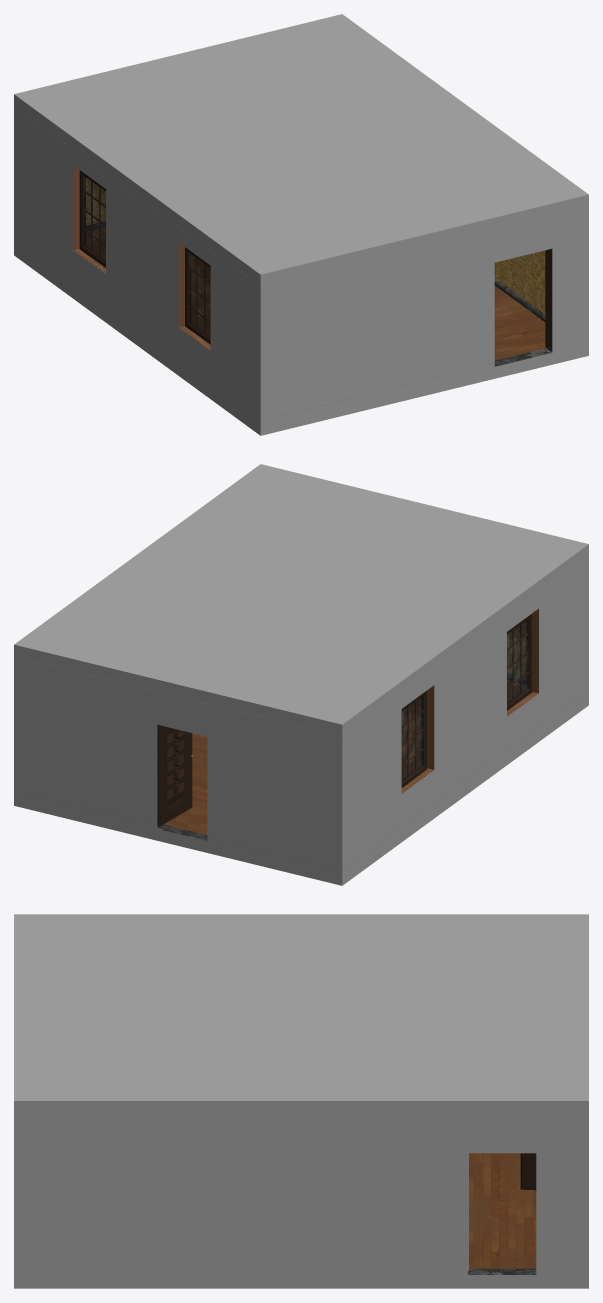
Rendered from Bedroom.ma.fbx.
The picture shows the model from 3 angles, top to bottom: view 1: azimuth 30°, elevation 25°; view 2: azimuth 150°, elevation 25°; view 3: azimuth 270°, elevation 25°; orthographic projection. The views are drawn at different scales.
Parts seen in each view (by area): view 1: OfficeBase1:pCube4, OfficeBase1:pCube3, OfficeBase1:pCube2, OfficeBase1:pPlane1, pPlane1, pCube10, OfficeBase1:pCube10; view 2: OfficeBase1:pCube4, OfficeBase1:pCube3, OfficeBase1:pCube2, Office:pCube26, pPlane1, OfficeBase1:pPlane1, pCube10, OfficeBase1:pCube10; view 3: OfficeBase1:pCube4, OfficeBase1:pCube3, OfficeBase1:pCube2, OfficeBase1:pCube26.
Part boxes in pixels (x1,y1,x2,y2): OfficeBase1:pCube4: (14,14,588,286); OfficeBase1:pCube3: (14,106,588,419); OfficeBase1:pCube2: (14,221,588,435); OfficeBase1:pPlane1: (189,253,210,337); pPlane1: (84,176,105,261); pCube10: (79,170,105,267); OfficeBase1:pCube10: (185,247,210,344); OfficeBase1:pCube4: (14,464,588,736); OfficeBase1:pCube3: (14,556,588,869); OfficeBase1:pCube2: (14,674,588,885); Office:pCube26: (158,725,192,826); pPlane1: (402,696,423,780); OfficeBase1:pPlane1: (507,619,528,703); pCube10: (401,690,426,787); OfficeBase1:pCube10: (507,613,532,710); OfficeBase1:pCube4: (14,914,588,1114); OfficeBase1:pCube3: (14,1115,588,1270); OfficeBase1:pCube2: (14,1153,588,1288); OfficeBase1:pCube26: (520,1153,536,1190).
Bounding box in the file's own units: 61.12 × 28.67 × 79.54.
